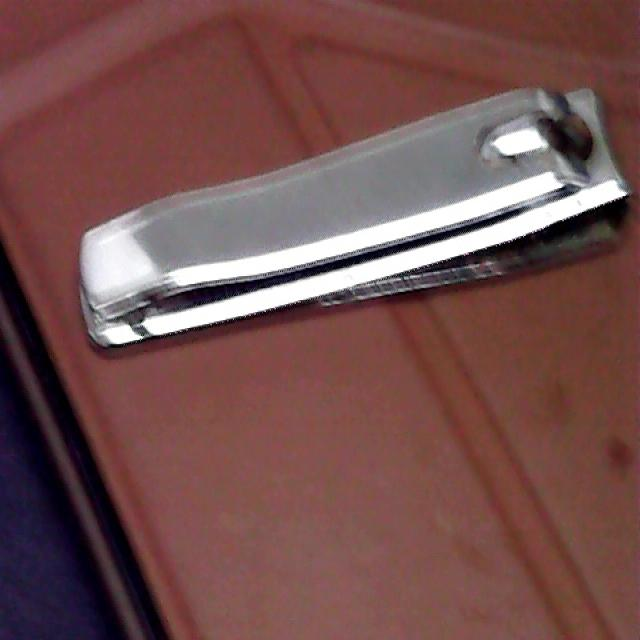Nail_clipper: (80, 88, 631, 345)
